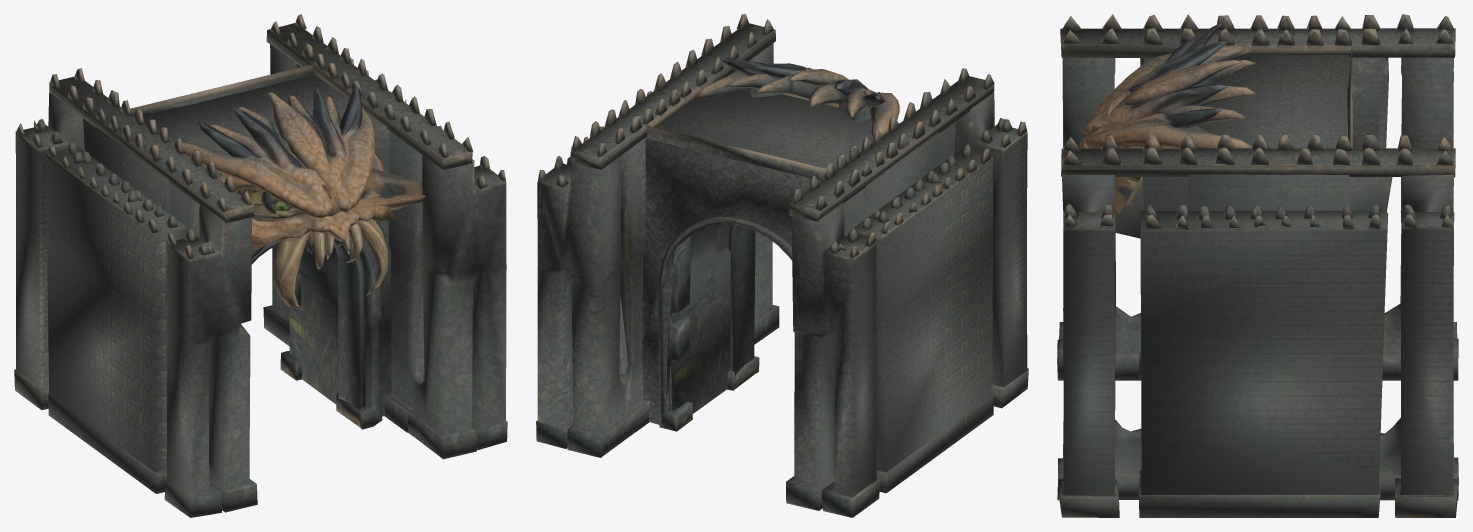
Rendered from portal.glb.
The picture shows the model from 3 angles, left to right: view 1: azimuth 30°, elevation 25°; view 2: azimuth 150°, elevation 25°; view 3: azimuth 270°, elevation 25°; orthographic projection. The views are drawn at different scales.
Parts seen in each view (by area): view 1: portal; view 2: portal; view 3: portal.
Boxes of the visible parts, box(x1,y1,x2,y2) form: portal: box(14, 14, 507, 517); portal: box(536, 14, 1028, 517); portal: box(1057, 14, 1458, 517).
Bounding box in the file's own units: 1 × 1 × 0.9824.
2 materials, 2 textured.
